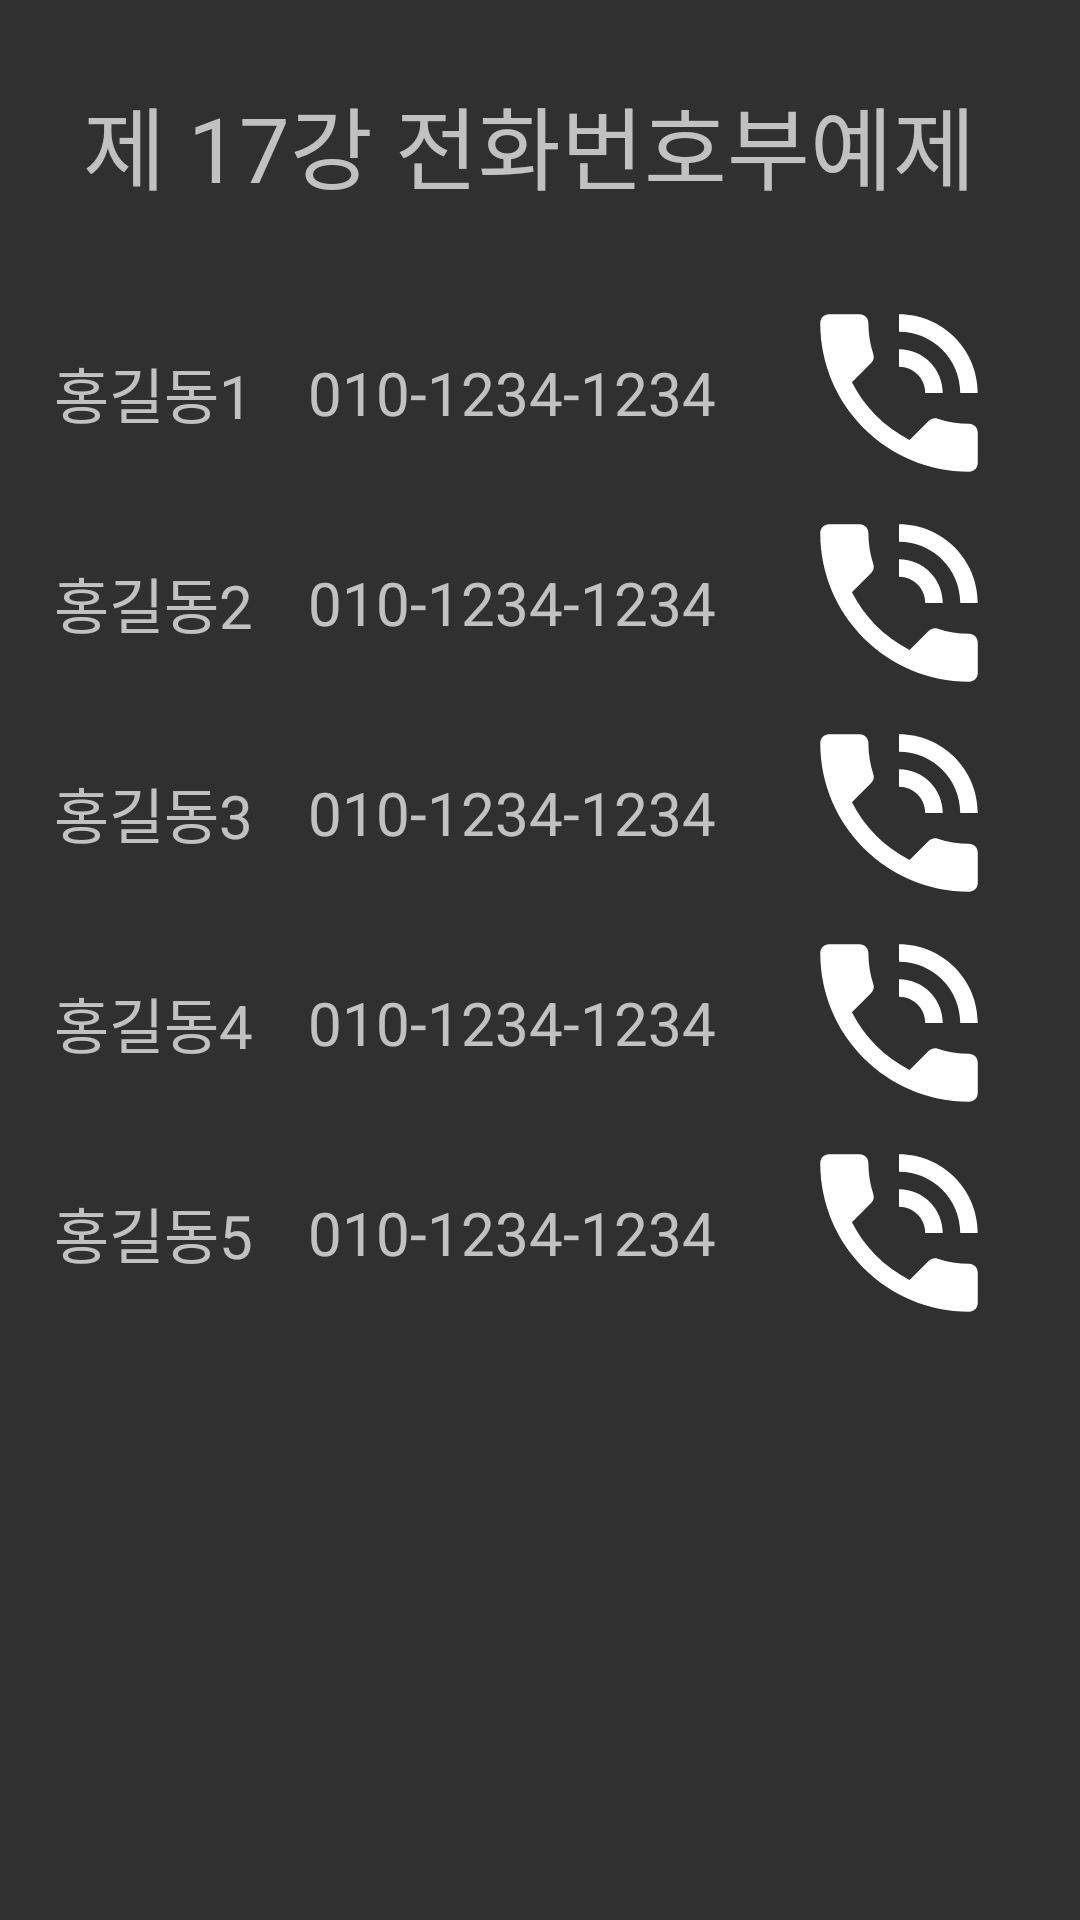

Where to tap for icons on this 1080 × 1920 app screen, as point (x, y):
speakerphone: point (899, 393), point (899, 603), point (899, 813), point (899, 1023), point (899, 1233)
